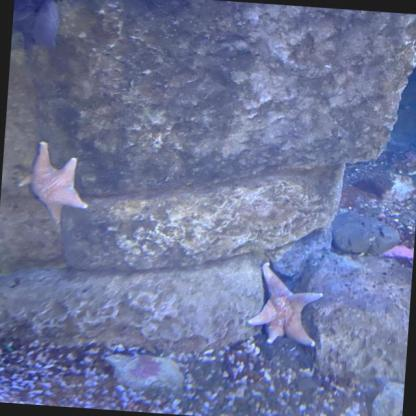starfish: (246, 261, 324, 348), (15, 140, 92, 228)
